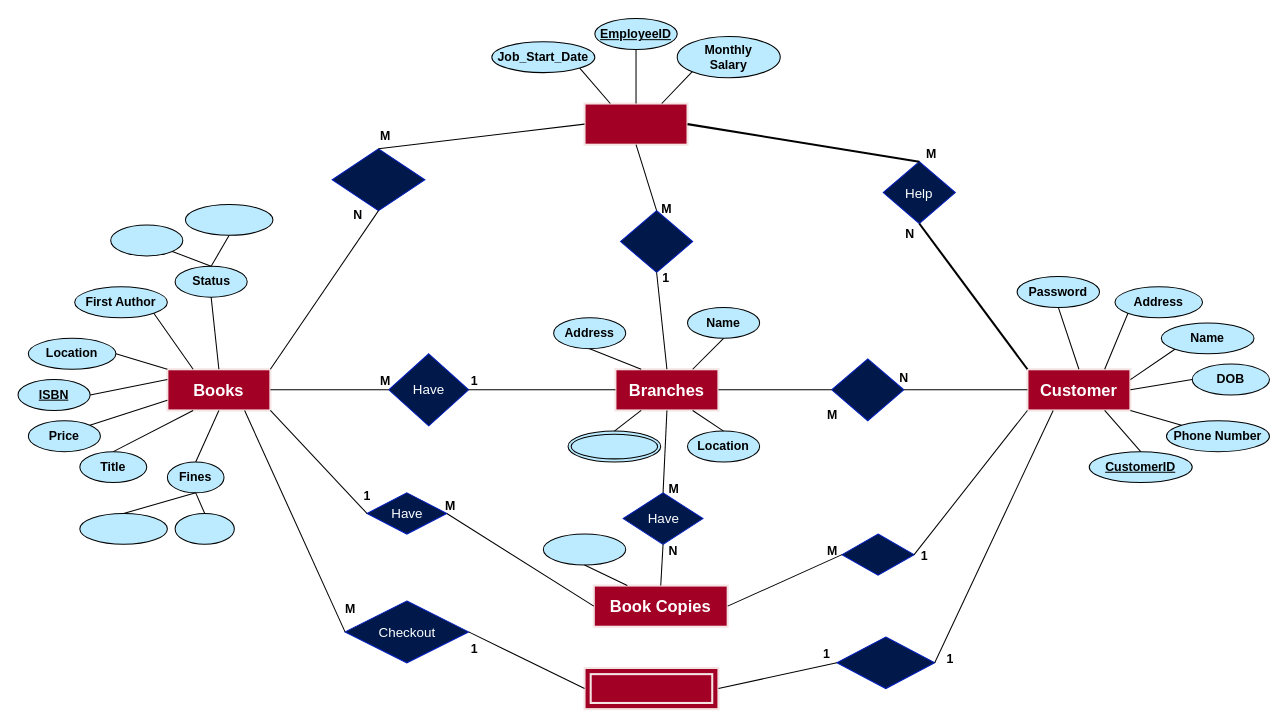
Some shapes in this 1288 by 727 pixel diagram are drawn without their labels. Here are the shapes that lost their labels. From the top down, the centre of each, then its label:
At [635,123]: "Employees".
At [378,179]: "Organize".
At [228,219]: "Checked Out".
At [146,240]: "Available".
At [656,241]: "Works".
At [867,389]: "Sign Up".
At [614,446]: "Phone No".
At [123,528]: "Late Return".
At [204,528]: "Lost".
At [584,549]: "BookID".
At [877,554]: "Get".
At [885,662]: "Has".
At [651,688]: "Library Card".
